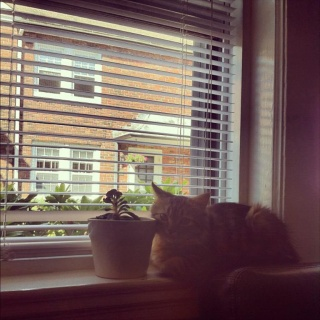Cat: (137, 183, 294, 290)
